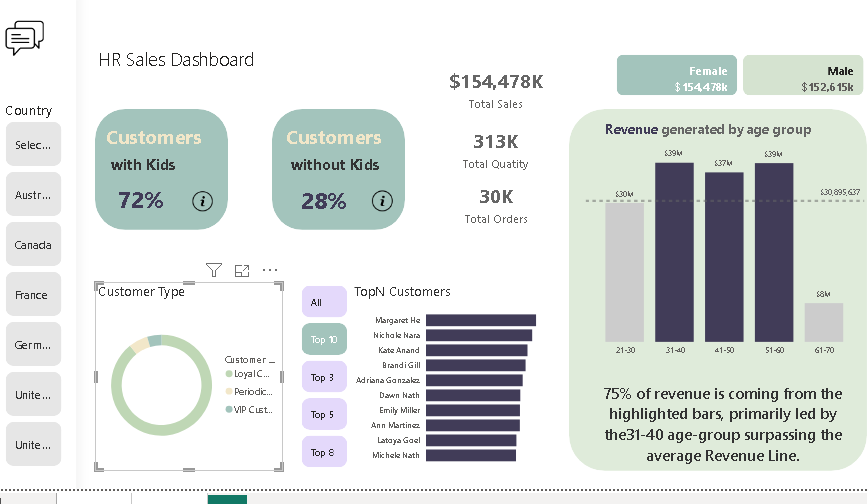

What the dashboard file says about the page in this screenshot:
{"tool":"powerbi","page":{"name":"Page 1","canvas":[1280,720],"ordinal":0},"visuals":[{"type":"shape","box":[836.6,172.8,429.1,521.3],"z":0},{"type":"shape","box":[409,172.8,191.5,174.2],"z":1000},{"type":"shape","box":[154.1,172.8,191.5,174.2],"z":2000},{"type":"card","fields":{"Values":["Measured Table.Total_Orders"]},"box":[666.7,270.7,129.6,76.3],"z":3000},{"type":"card","fields":{"Values":["Measured Table.Total_Sales"]},"box":[639.4,102.2,184.3,82.1],"z":4000},{"type":"card","fields":{"Values":["Measured Table.Total_Quatity"]},"box":[665.3,184.3,131,90.7],"z":5000},{"type":"advancedSlicerVisual","fields":{"Values":["DimCustomer.Gender"]},"box":[900,89.3,367.2,69.1],"z":6000},{"type":"clusteredColumnChart","title":"Revenue by Age Category","fields":{"Category":["DimCustomer.Age Category"],"Y":["Measured Table.Total_Sales"]},"box":[855.4,214.6,411.8,322.6],"z":7000},{"type":"card","fields":{"Values":["Measured Table.Avg Caution"]},"box":[855.8,537.3,410.8,156.3],"z":8000},{"type":"advancedSlicerVisual","fields":{"Values":["Sorting Table.TopN"]},"box":[446.4,421.9,76.3,272.2],"z":9000},{"type":"barChart","title":" TopN Customers","fields":{"Category":["DimCustomer.FullName"],"Y":["Measured Table.RankCustomers"]},"box":[522.7,421.9,301,272.2],"z":10000},{"type":"donutChart","title":"Customer Type","fields":{"Category":["DimCustomer.Customer Type"],"Y":["Measured Table.Total_Sales"]},"box":[154.1,421.9,270.7,272.2],"z":11000},{"type":"card","fields":{"Values":["Measured Table.WithoutChildrenCount"]},"box":[424.8,267.8,118.1,72],"z":12000},{"type":"card","fields":{"Values":["Measured Table.Children Count"]},"box":[175.7,266.4,89.3,73.4],"z":13000},{"type":"shape","box":[0,0,127.3,720.7],"z":14000},{"type":"textbox","box":[154.1,76.3,254.9,54.7],"z":15000},{"type":"textbox","box":[884.2,184.3,344.2,46.1],"z":16000},{"type":"image","box":[289.4,285.1,38.9,40.3],"z":17000},{"type":"image","box":[542.9,285.1,49,40.3],"z":18000},{"type":"image","box":[30.2,56.2,64.8,66.2],"z":19000},{"type":"textbox","box":[165.6,188.6,162.7,86.4],"z":20000},{"type":"textbox","box":[424.8,188.6,154.1,86.4],"z":21000},{"type":"slicer","fields":{"Values":["DimSalesTerritory.SalesTerritoryCountry"]},"box":[505.4,89.3,145.4,41.8],"z":22000},{"type":"image","box":[4.3,653.8,118.1,40.3],"z":23000}]}

Visuals, with their boxes on the page's 1280x720 design canvas (x1, y1, x2, y2). These are canvas units, not pixel positions in the 867x504 screenshot, which may show the page scaled, cropped or inside an application window:
shape: (left=837, top=173, right=1266, bottom=694)
shape: (left=409, top=173, right=600, bottom=347)
shape: (left=154, top=173, right=346, bottom=347)
card - Measured Table.Total_Orders: (left=667, top=271, right=796, bottom=347)
card - Measured Table.Total_Sales: (left=639, top=102, right=824, bottom=184)
card - Measured Table.Total_Quatity: (left=665, top=184, right=796, bottom=275)
advancedSlicerVisual - DimCustomer.Gender: (left=900, top=89, right=1267, bottom=158)
"Revenue by Age Category" clusteredColumnChart: (left=855, top=215, right=1267, bottom=537)
card - Measured Table.Avg Caution: (left=856, top=537, right=1267, bottom=694)
advancedSlicerVisual - Sorting Table.TopN: (left=446, top=422, right=523, bottom=694)
" TopN Customers" barChart: (left=523, top=422, right=824, bottom=694)
"Customer Type" donutChart: (left=154, top=422, right=425, bottom=694)
card - Measured Table.WithoutChildrenCount: (left=425, top=268, right=543, bottom=340)
card - Measured Table.Children Count: (left=176, top=266, right=265, bottom=340)
shape: (left=0, top=0, right=127, bottom=721)
textbox: (left=154, top=76, right=409, bottom=131)
textbox: (left=884, top=184, right=1228, bottom=230)
image: (left=289, top=285, right=328, bottom=325)
image: (left=543, top=285, right=592, bottom=325)
image: (left=30, top=56, right=95, bottom=122)
textbox: (left=166, top=189, right=328, bottom=275)
textbox: (left=425, top=189, right=579, bottom=275)
slicer - DimSalesTerritory.SalesTerritoryCountry: (left=505, top=89, right=651, bottom=131)
image: (left=4, top=654, right=122, bottom=694)
